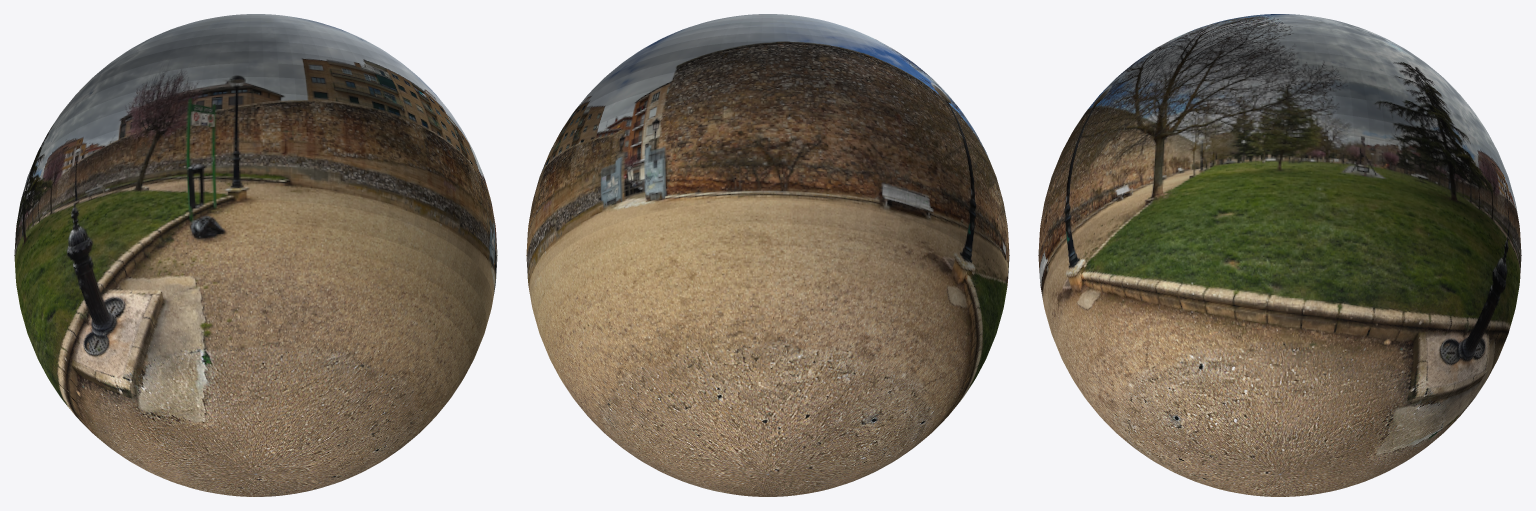
The model's file is building_KL_360.glb.
3 renders of one model, left to right at view 1: azimuth 30°, elevation 25°; view 2: azimuth 150°, elevation 25°; view 3: azimuth 270°, elevation 25°, orthographic.
Size of the model in its own units: 2 by 2 by 2.
1 material, 1 textured.
